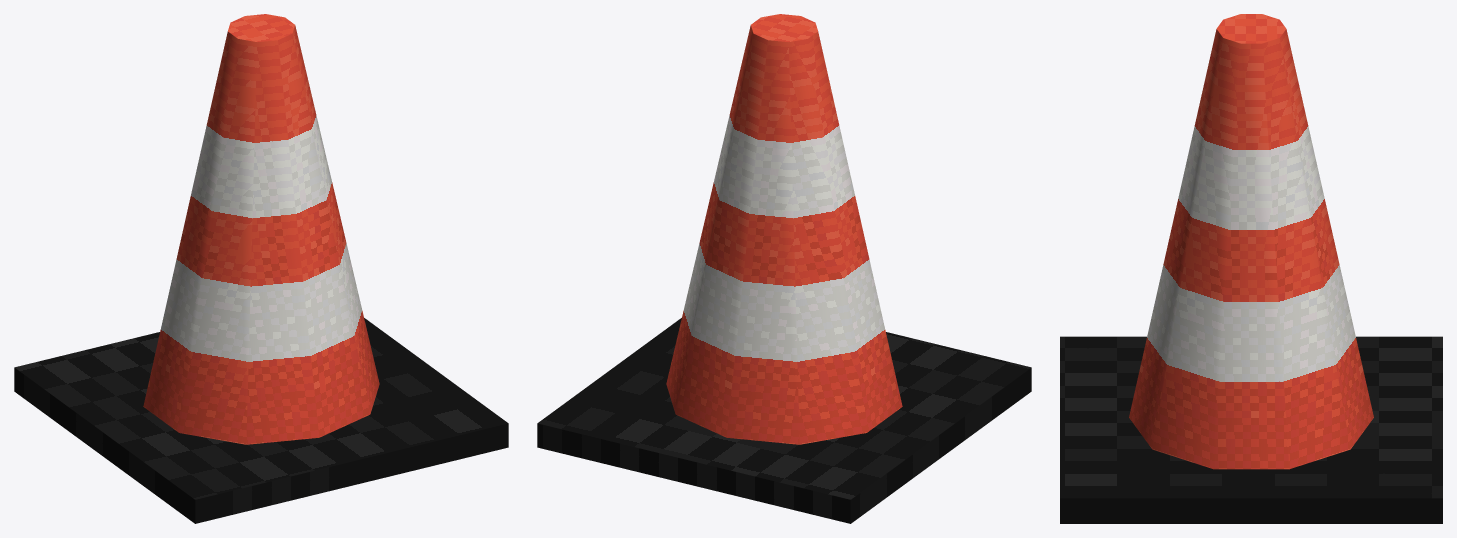
The model's file is Traffic_Cone_1.obj.
3 views of the same model, side by side, from view 1: azimuth 30°, elevation 25°; view 2: azimuth 150°, elevation 25°; view 3: azimuth 270°, elevation 25° (orthographic). The views are drawn at different scales.
Parts seen in each view (by area): view 1: Traffic_Cone_1; view 2: Traffic_Cone_1; view 3: Traffic_Cone_1.
Part boxes in pixels (x1,y1,x2,y2): Traffic_Cone_1: (14, 14, 508, 523); Traffic_Cone_1: (537, 14, 1031, 523); Traffic_Cone_1: (1060, 14, 1442, 523).
Size of the model in its own units: 0.625 by 0.746 by 0.625.
